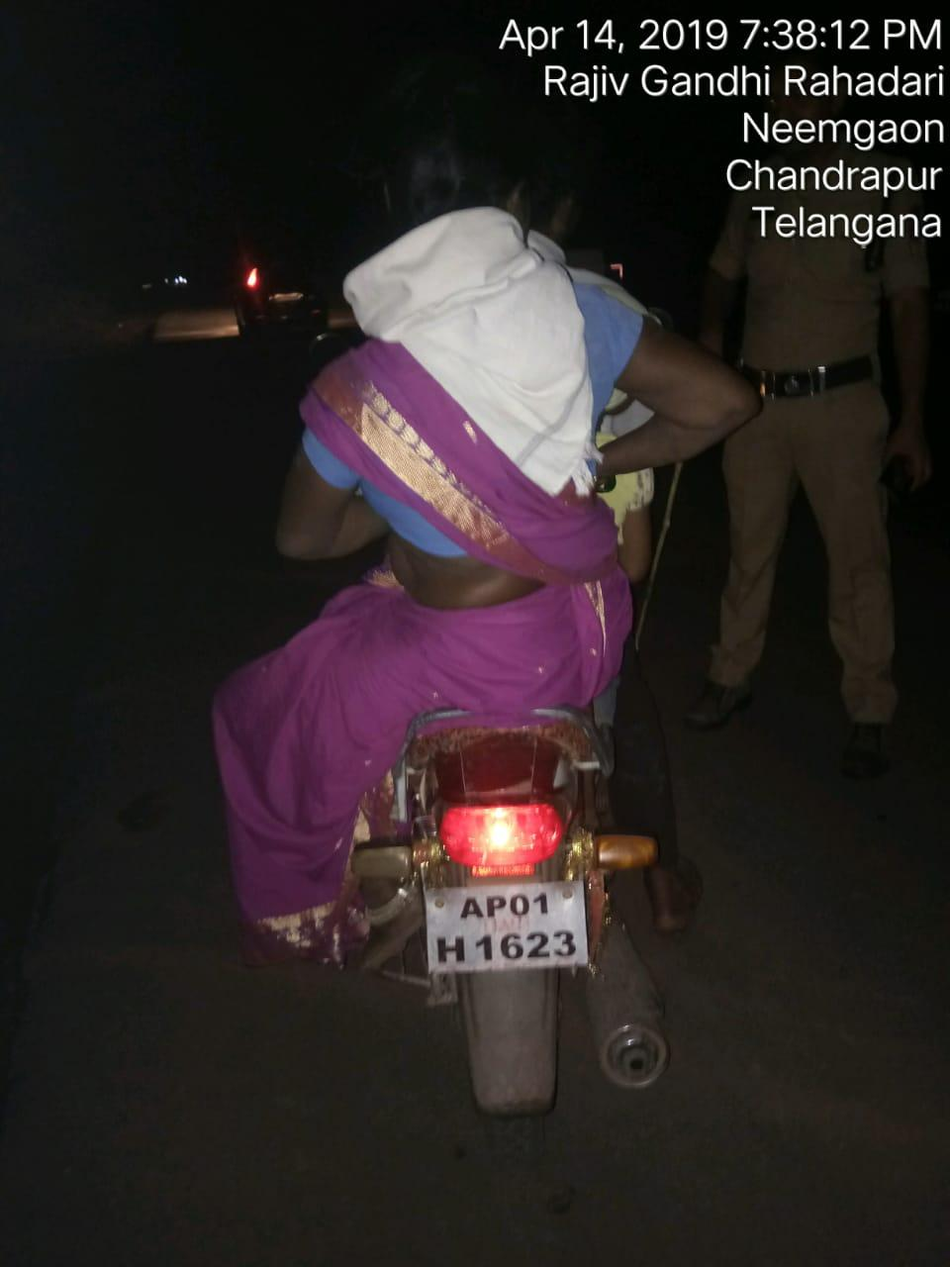plate: (379, 841, 641, 984)
